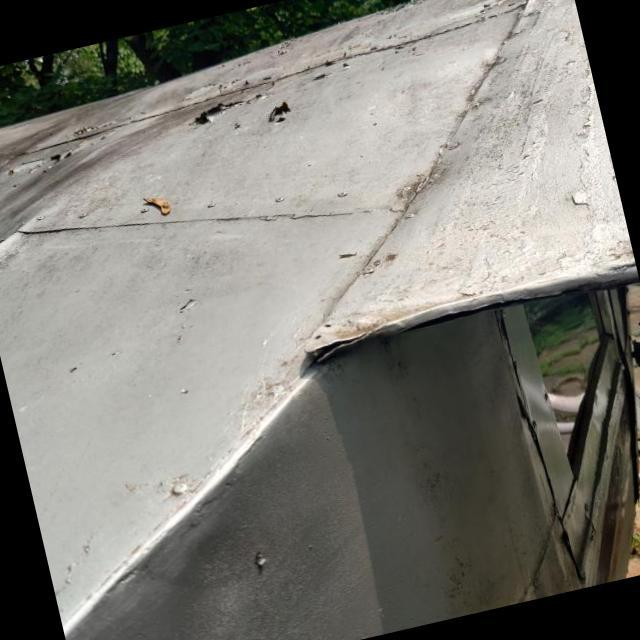Rupture: (282, 308, 388, 388)
